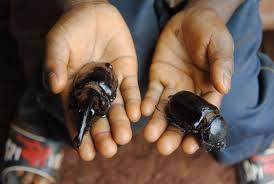Insects: (153, 86, 234, 158), (62, 59, 122, 150)
